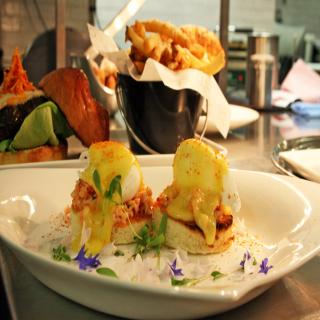French fries: (116, 18, 220, 68)
